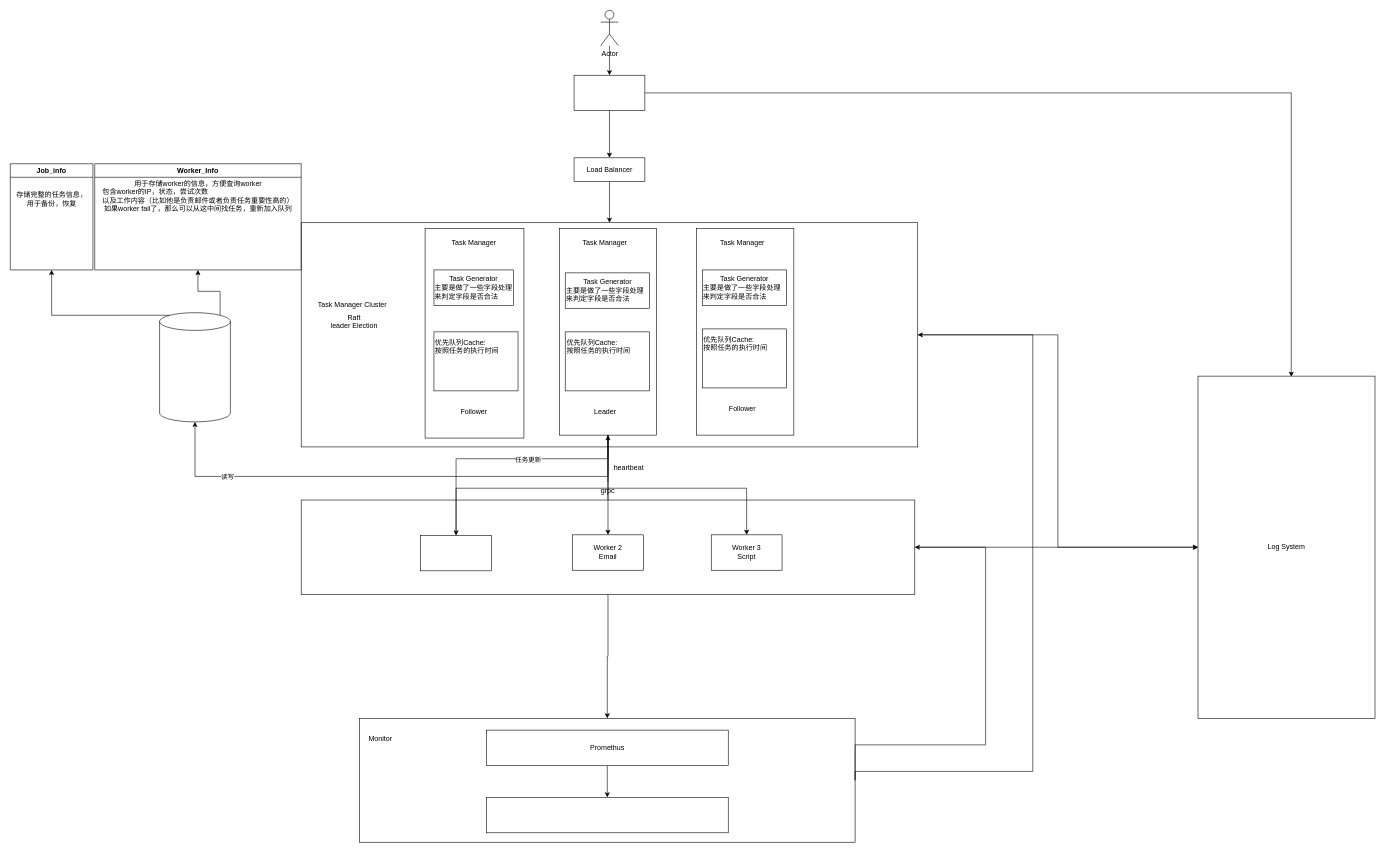
The diagram is 1385 pixels wide and 853 high, and some of its shapes have lost their labels. The shapes that lost their labels are listed below. From the top down, each one's centre as x and y in pixels, then its label:
point 609,93: API
point 194,367: DB Cluster
point 455,553: Worker 1 Email
point 607,815: Grafana
